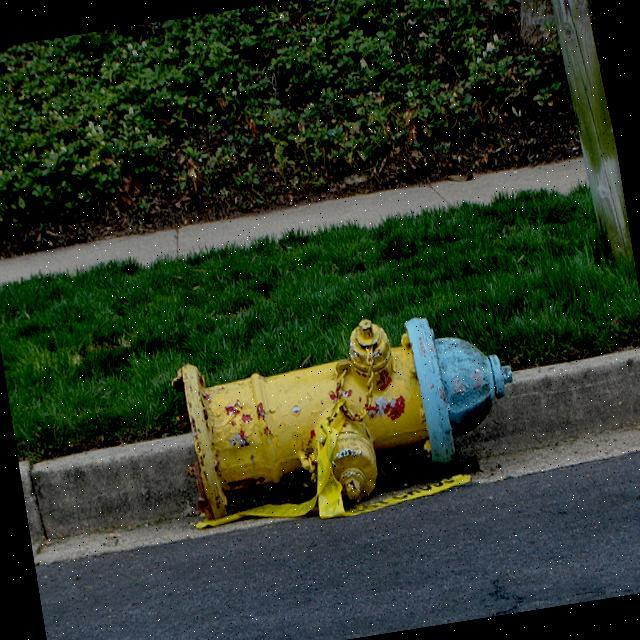fire_hydrant: (163, 298, 530, 530)
